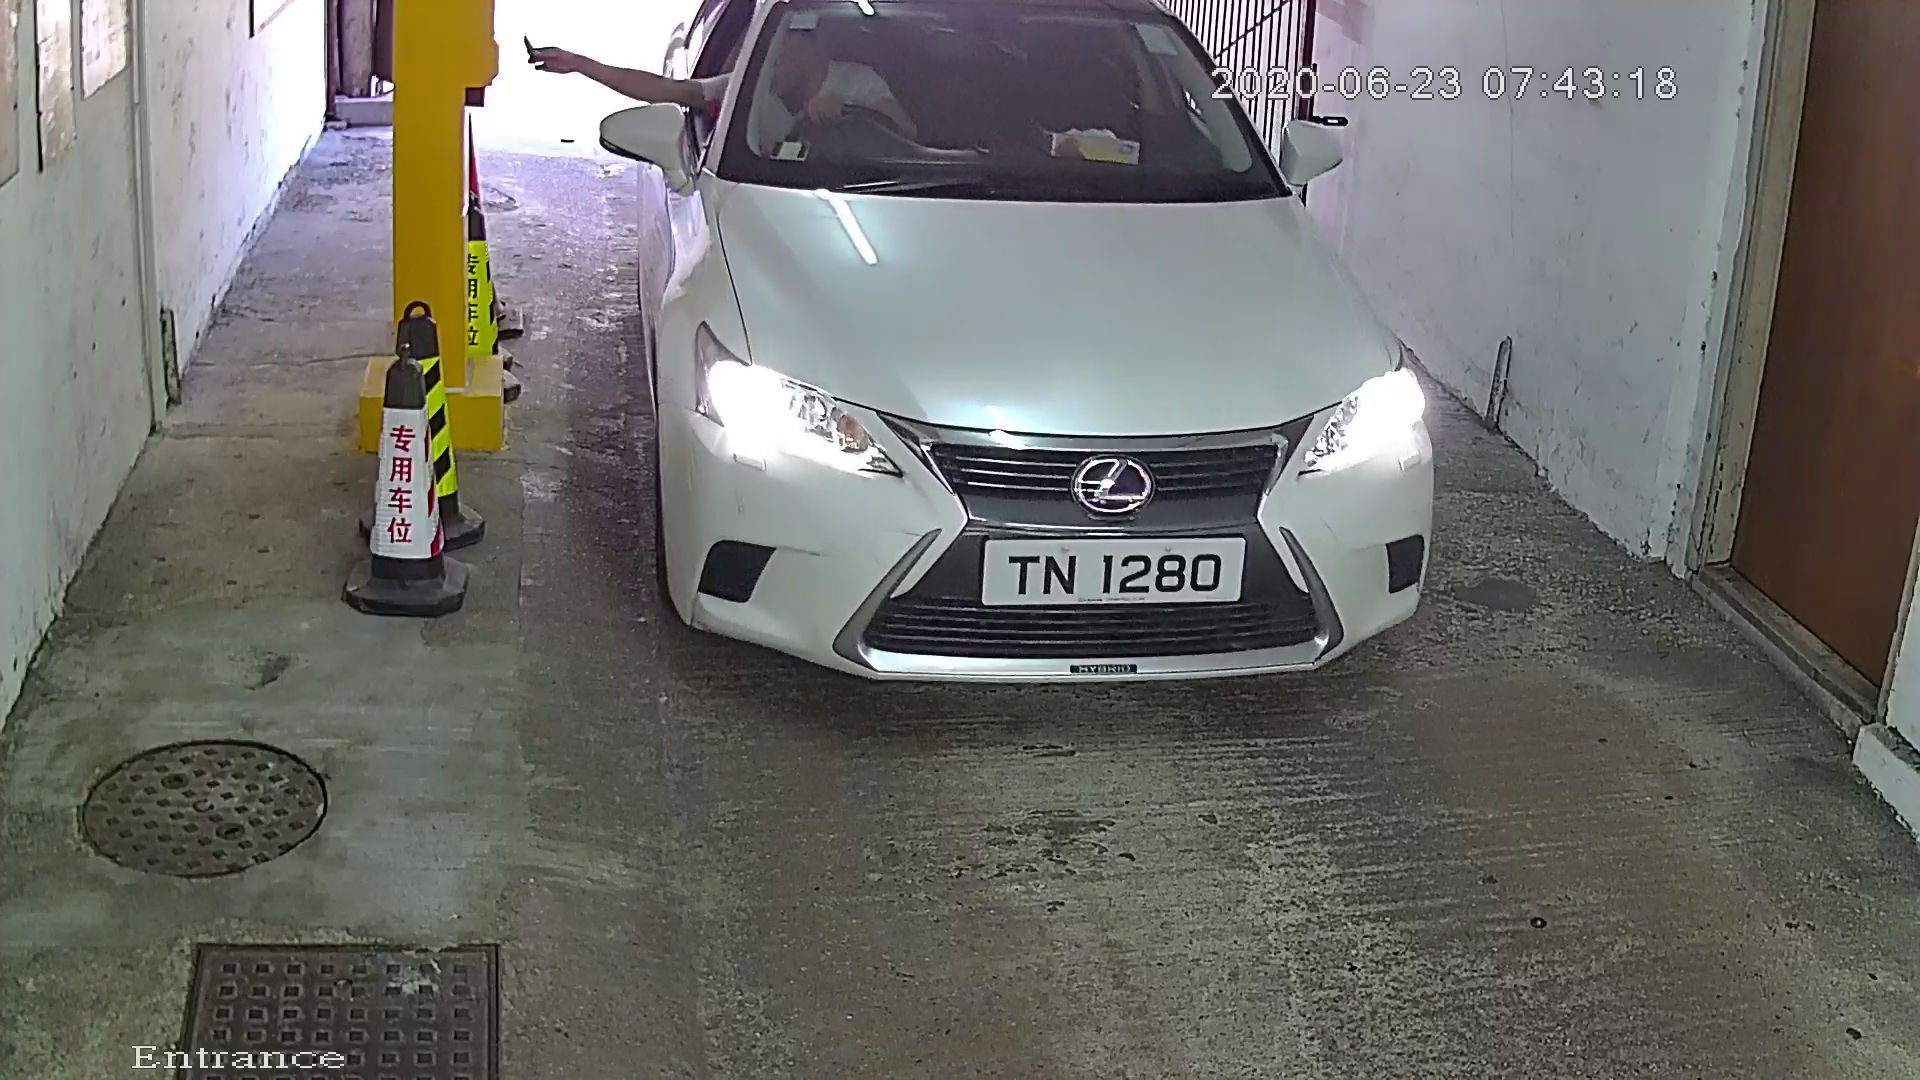privatecar: (579, 1, 1509, 802)
